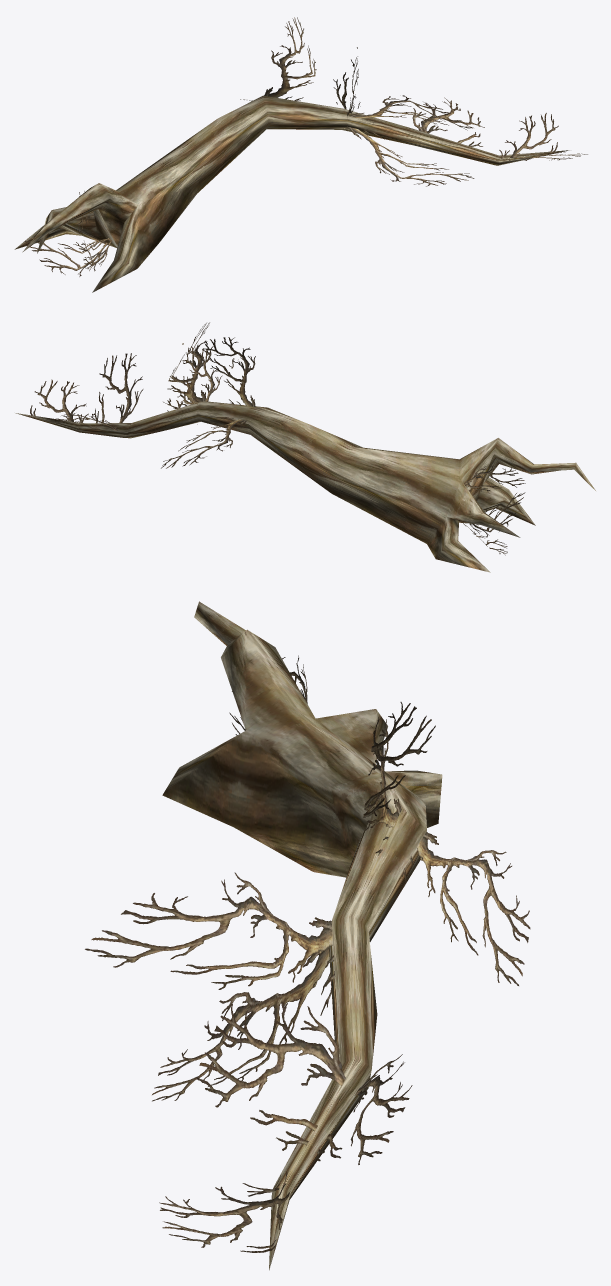
Rendered from redridgefallentree03.glb.
The picture shows the model from 3 angles, top to bottom: view 1: azimuth 30°, elevation 25°; view 2: azimuth 150°, elevation 25°; view 3: azimuth 270°, elevation 25°; orthographic projection. The views are drawn at different scales.
Bounding box in the file's own units: 27.03 × 8.72 × 9.77.
2 materials, 2 textured.
